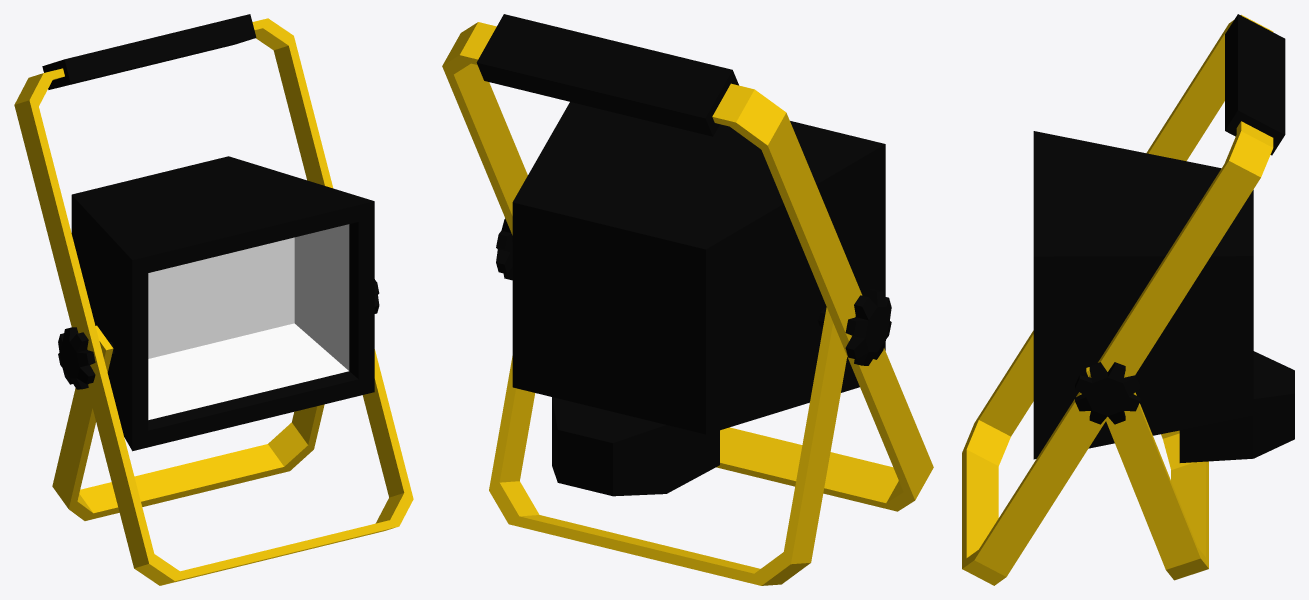
File: Projecteur_D.FBX
3 renders of one model, left to right at view 1: azimuth 30°, elevation 25°; view 2: azimuth 150°, elevation 25°; view 3: azimuth 270°, elevation 25°, orthographic. The views are drawn at different scales.
Visible parts, largest first — view 1: Box014; view 2: Box014; view 3: Box014.
Part boxes in pixels (x1,y1,x2,y2): Box014: (14, 14, 413, 585); Box014: (442, 14, 933, 585); Box014: (962, 14, 1294, 585).
Size of the model in its own units: 24.62 by 34.54 by 22.37.
1 material, 1 textured.
